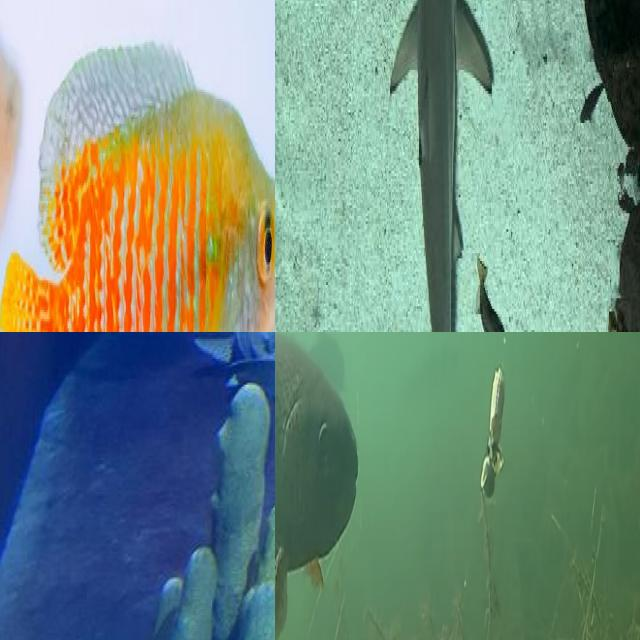fish: (0, 0, 275, 332), (387, 0, 493, 332)
